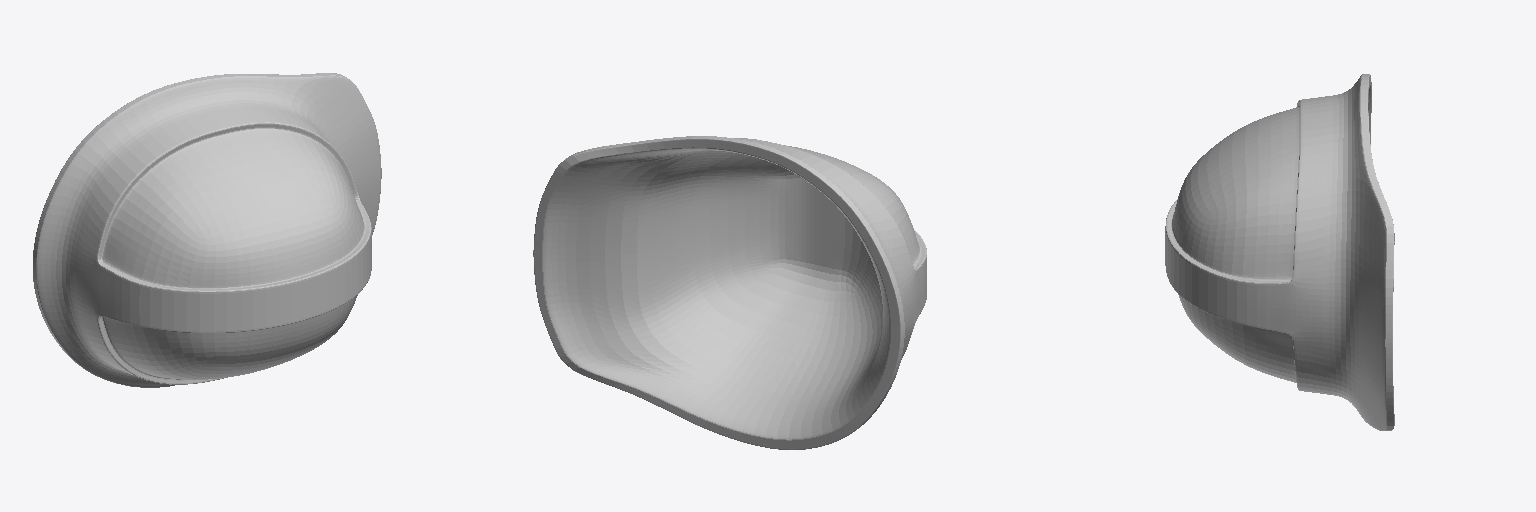
Rendered from 16617_Forestry_Safety_Hard_Hat_v1.obj.
3 views of the same model, side by side, from view 1: azimuth 30°, elevation 25°; view 2: azimuth 150°, elevation 25°; view 3: azimuth 270°, elevation 25° (orthographic).
Visible parts, largest first — view 1: 16617_Forestry_Safety_Hard_Hat01; view 2: 16617_Forestry_Safety_Hard_Hat01; view 3: 16617_Forestry_Safety_Hard_Hat01.
Part boxes in pixels (x1,y1,x2,y2): 16617_Forestry_Safety_Hard_Hat01: (33,73,381,387); 16617_Forestry_Safety_Hard_Hat01: (533,136,926,449); 16617_Forestry_Safety_Hard_Hat01: (1165,74,1394,430).
Bounding box in the file's own units: 26.7 × 21.43 × 14.86.